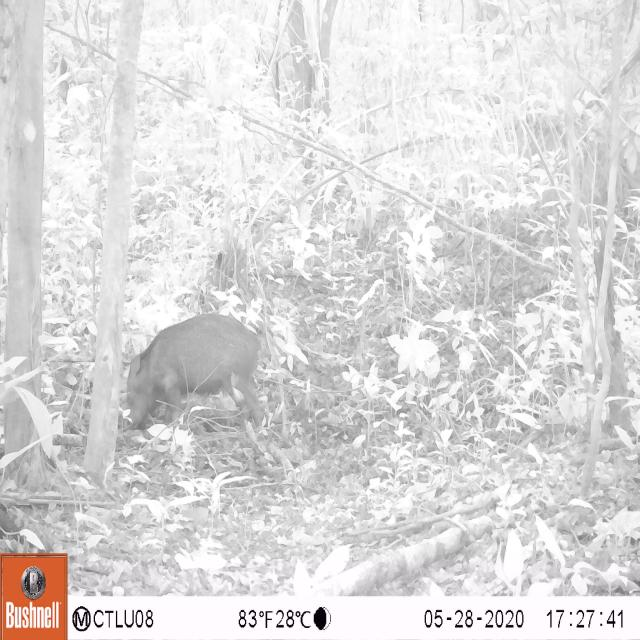Collared Peccary: (122, 303, 277, 445)
